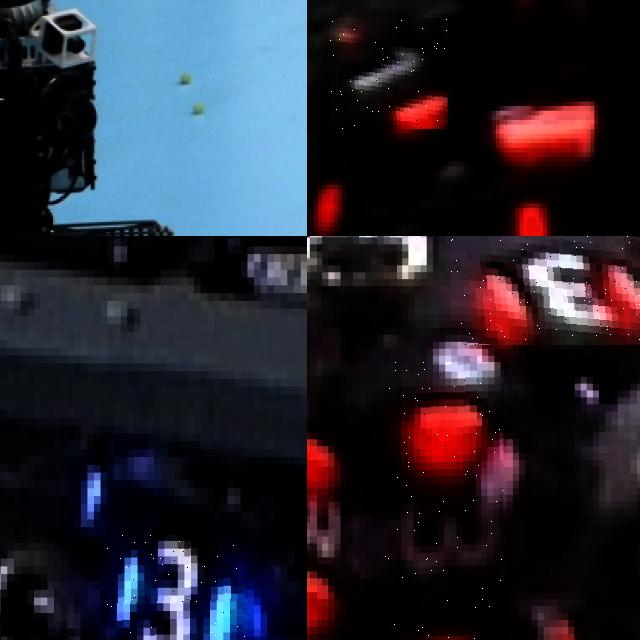B3: (107, 535, 247, 640)
R1: (330, 18, 448, 129)
R3: (380, 362, 503, 640), (451, 236, 640, 345), (307, 414, 340, 640)
